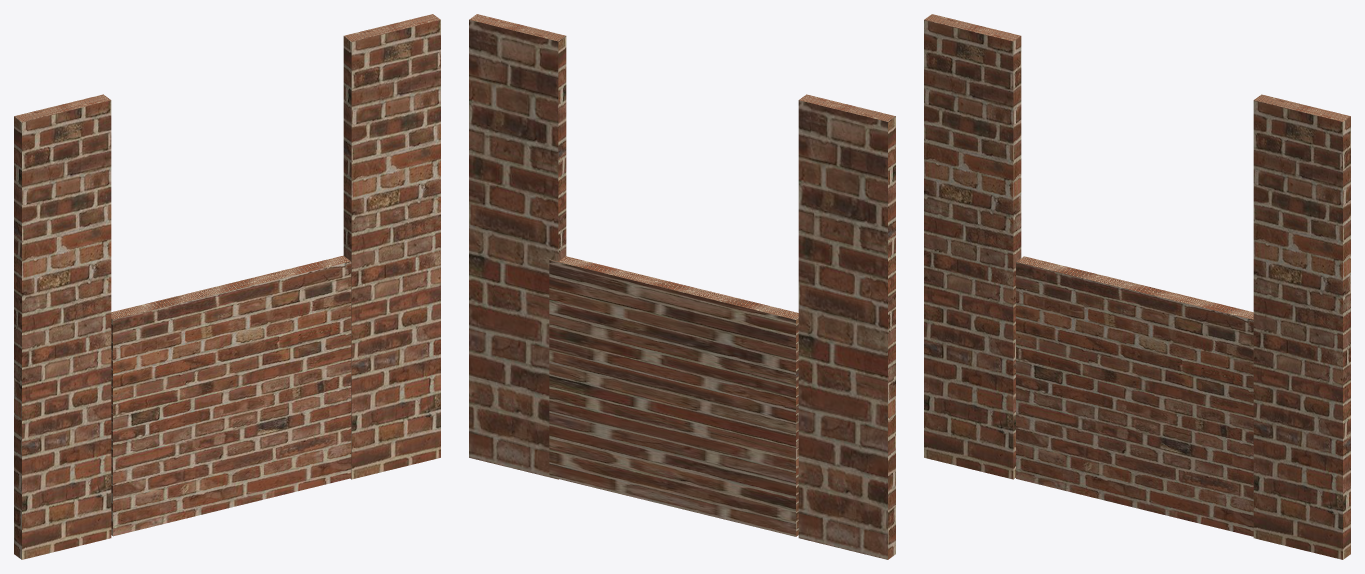
Rendered from wallwindow1.obj.
3 renders of one model, left to right at view 1: azimuth 30°, elevation 25°; view 2: azimuth 150°, elevation 25°; view 3: azimuth 330°, elevation 25°, orthographic.
Parts seen in each view (by area): view 1: Cube_Cube.002, Cube_Cube.003, Cube_Cube.001; view 2: Cube_Cube.002, Cube_Cube.003, Cube_Cube.001; view 3: Cube_Cube.002, Cube_Cube.001, Cube_Cube.003.
Boxes of the visible parts, x1,y1,x2,y2 form: Cube_Cube.002: (111, 255, 351, 536); Cube_Cube.003: (14, 94, 111, 559); Cube_Cube.001: (343, 14, 440, 479); Cube_Cube.002: (549, 256, 798, 536); Cube_Cube.003: (798, 94, 895, 559); Cube_Cube.001: (469, 14, 566, 479); Cube_Cube.002: (1016, 256, 1253, 536); Cube_Cube.001: (1253, 94, 1350, 559); Cube_Cube.003: (924, 14, 1021, 479).
Size of the model in its own units: 13.13 by 13.12 by 0.4489.
